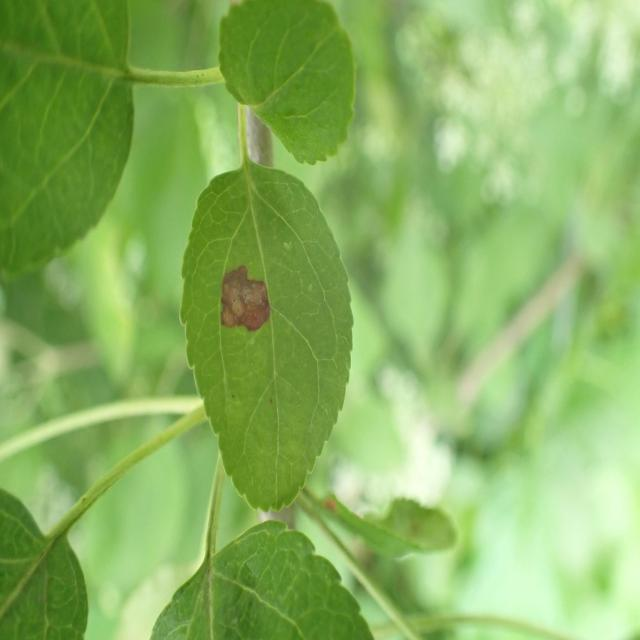Black Rot: (211, 256, 276, 348)
